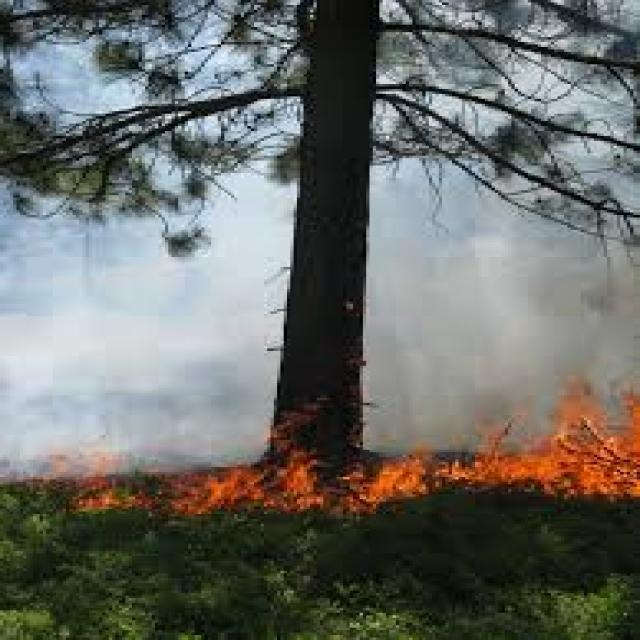Fire: (373, 376, 640, 514), (28, 447, 333, 524)
Smoke: (0, 274, 254, 453), (374, 264, 614, 426)
